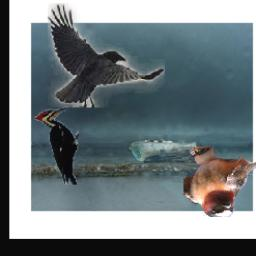Crow: (47, 3, 164, 108)
Swallow: (182, 147, 256, 217)
Woodpecker: (33, 107, 78, 186)
